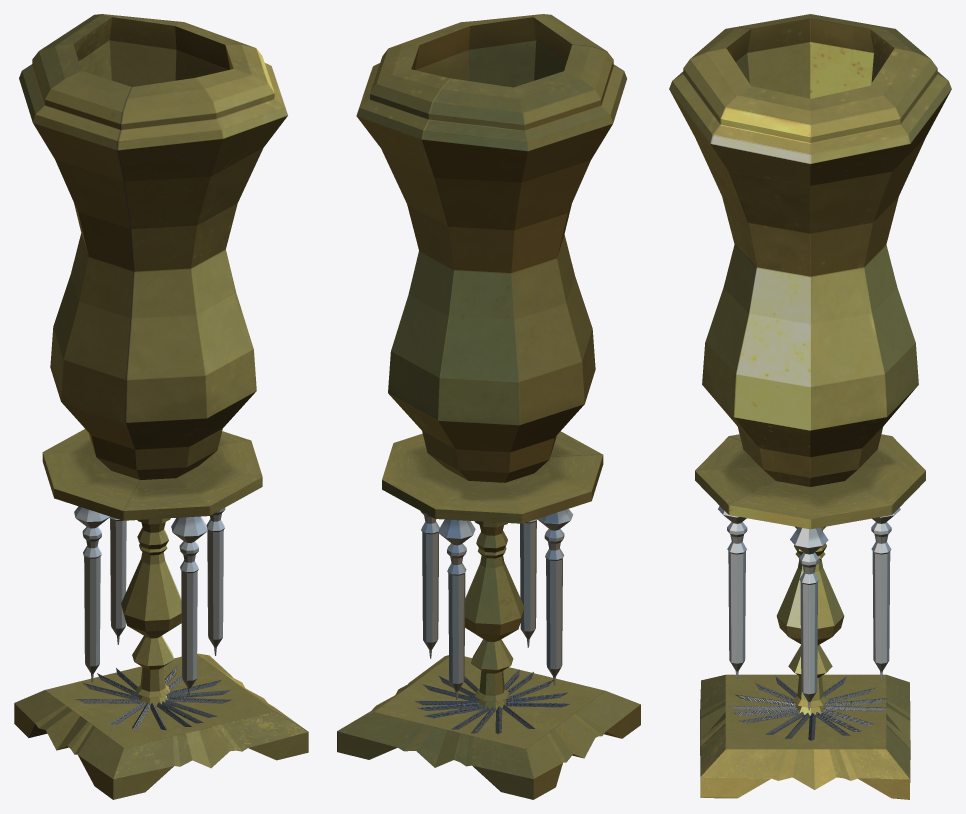
File: candeiro_de_mesinha_de_cabeceira.fbx
3 renders of one model, left to right at view 1: azimuth 30°, elevation 25°; view 2: azimuth 150°, elevation 25°; view 3: azimuth 270°, elevation 25°, orthographic.
Parts seen in each view (by area): view 1: Candeeiro principal, fundo, tubos transparentes, folhas; view 2: Candeeiro principal, fundo, tubos transparentes, folhas; view 3: Candeeiro principal, fundo, tubos transparentes, folhas.
Part boxes in pixels (left/top/right/bottom): Candeeiro principal: left=19, top=14, right=287, bottom=706; fundo: left=14, top=653, right=308, bottom=799; tubos transparentes: left=74, top=506, right=225, bottom=696; folhas: left=75, top=666, right=232, bottom=730; Candeeiro principal: left=356, top=14, right=626, bottom=710; fundo: left=337, top=655, right=640, bottom=799; tubos transparentes: left=420, top=509, right=573, bottom=699; folhas: left=415, top=669, right=571, bottom=733; Candeeiro principal: left=669, top=14, right=951, bottom=715; fundo: left=700, top=674, right=910, bottom=799; tubos transparentes: left=718, top=506, right=900, bottom=710; folhas: left=729, top=676, right=889, bottom=740.
Size of the model in its own units: 138 by 378 by 138.
4 materials, 4 textured.
